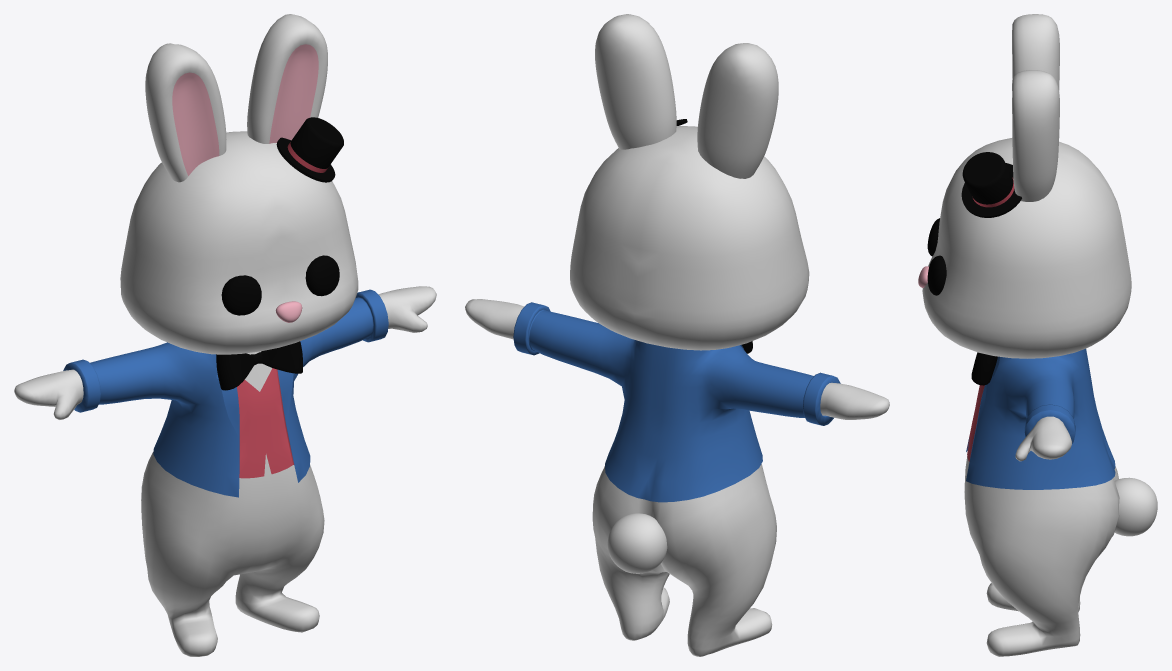
The model's file is Rabbit.fbx.
3 views of the same model, side by side, from view 1: azimuth 30°, elevation 25°; view 2: azimuth 150°, elevation 25°; view 3: azimuth 270°, elevation 25° (orthographic). The views are drawn at different scales.
Parts seen in each view (by area): view 1: Head, Body, Cloth, Ears, Top Hat, Eye, Ribbon, Body.001; view 2: Head, Cloth, Body, Ears, Tail; view 3: Head, Body, Cloth, Ears, Top Hat, Tail, Eye, Ribbon.
Boxes of the visible parts, box(x1,y1,x2,y2) form: Head: box(120, 131, 358, 354); Body: box(14, 286, 436, 656); Cloth: box(63, 289, 388, 497); Ears: box(145, 14, 327, 182); Top Hat: box(276, 117, 343, 182); Eye: box(221, 255, 339, 315); Ribbon: box(216, 341, 302, 390); Body.001: box(216, 369, 293, 436); Head: box(570, 126, 809, 350); Cloth: box(513, 302, 840, 502); Body: box(465, 299, 889, 656); Ears: box(595, 14, 778, 178); Tail: box(607, 513, 667, 573); Head: box(922, 138, 1131, 358); Body: box(964, 416, 1119, 656); Cloth: box(966, 348, 1115, 489); Ears: box(1012, 14, 1059, 201); Top Hat: box(961, 152, 1021, 217); Tail: box(1114, 477, 1157, 536); Eye: box(927, 218, 946, 295); Ribbon: box(971, 352, 997, 385).
Bounding box in the file's own units: 34.23 × 46.56 × 17.31.
